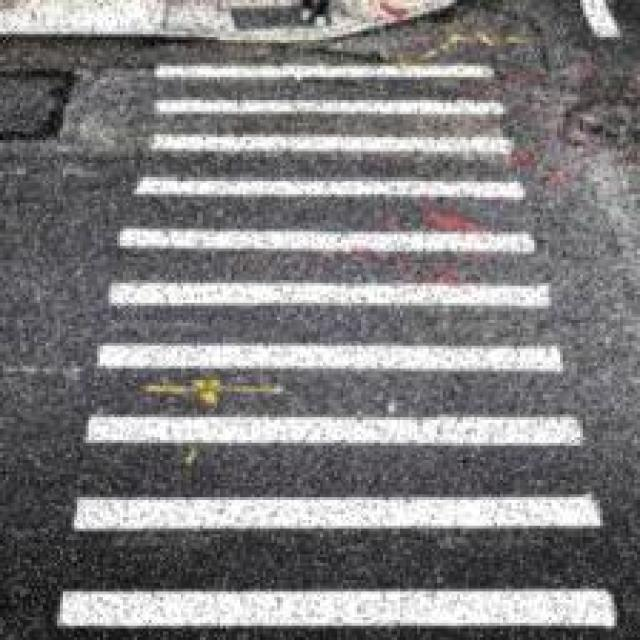walk-crossing: (49, 47, 637, 639)
